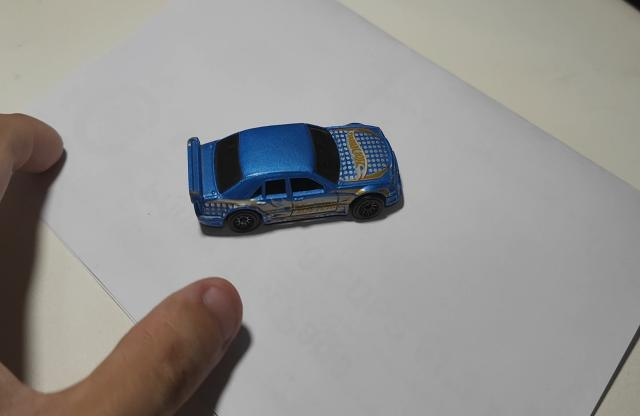04_MERZEDES: (186, 123, 405, 239)
